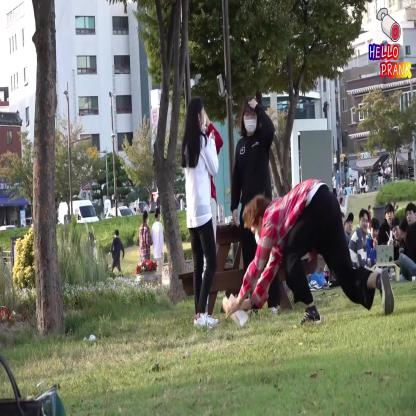Fall_Down: (225, 178, 394, 334)
